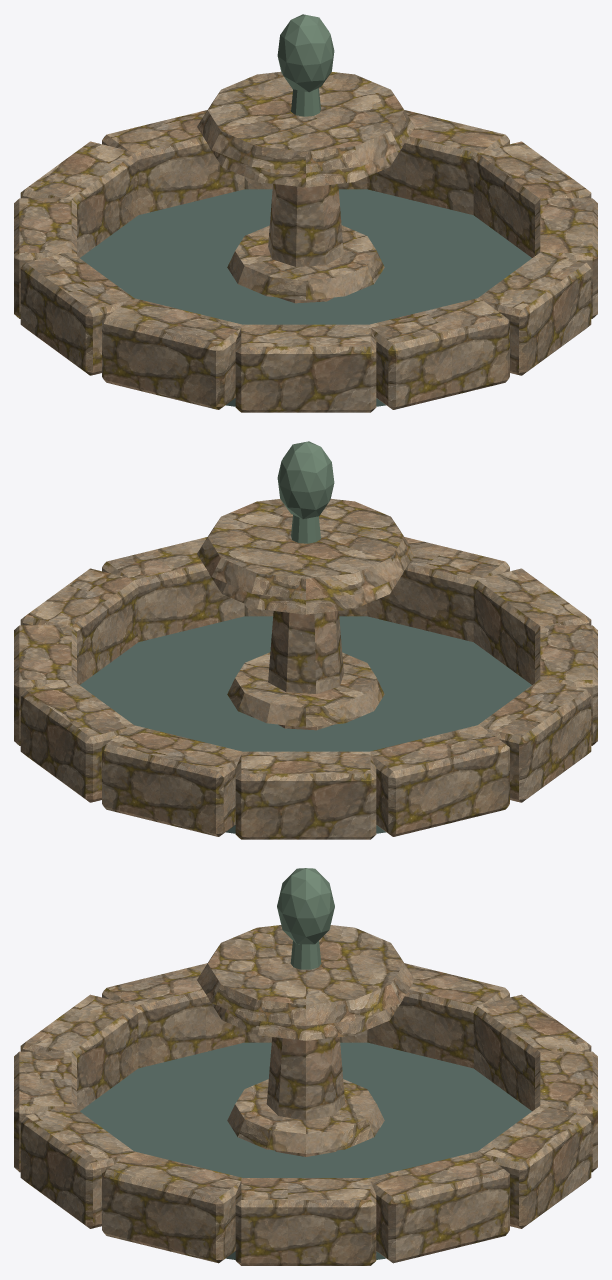
File: fountain.glb
The picture shows the model from 3 angles, top to bottom: view 1: azimuth 30°, elevation 25°; view 2: azimuth 150°, elevation 25°; view 3: azimuth 270°, elevation 25°; orthographic projection.
Parts seen in each view (by area): view 1: SM_fountain; view 2: SM_fountain; view 3: SM_fountain.
Boxes of the visible parts, x1,y1,x2,y2 form: SM_fountain: [14, 14, 597, 412]; SM_fountain: [14, 441, 597, 839]; SM_fountain: [14, 868, 597, 1265].
Bounding box in the file's own units: 4.82 × 2.6 × 4.82.
3 materials, 1 textured.
